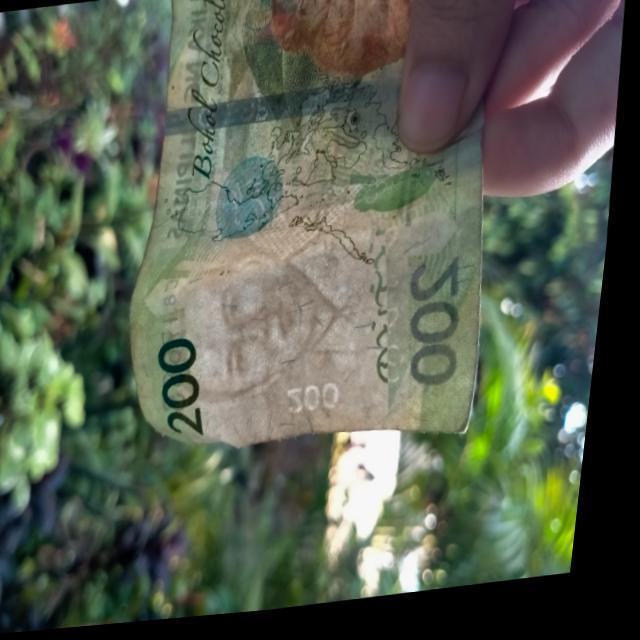security_thread: (161, 79, 414, 141)
see_through_mark: (355, 224, 426, 398)
value_watermark: (288, 382, 357, 427)
watermark: (181, 224, 400, 413)
